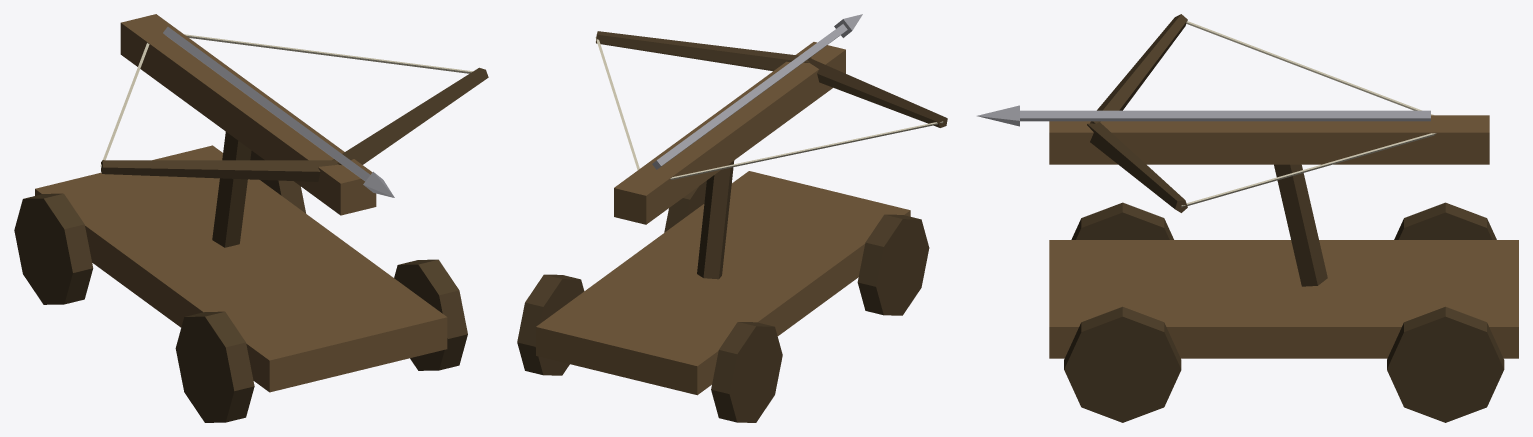
File: balliste.glb
3 views of the same model, side by side, from view 1: azimuth 30°, elevation 25°; view 2: azimuth 150°, elevation 25°; view 3: azimuth 270°, elevation 25° (orthographic). The views are drawn at different scales.
Size of the model in its own units: 1.52 by 0.98 by 1.85.
1 material, 1 textured.
